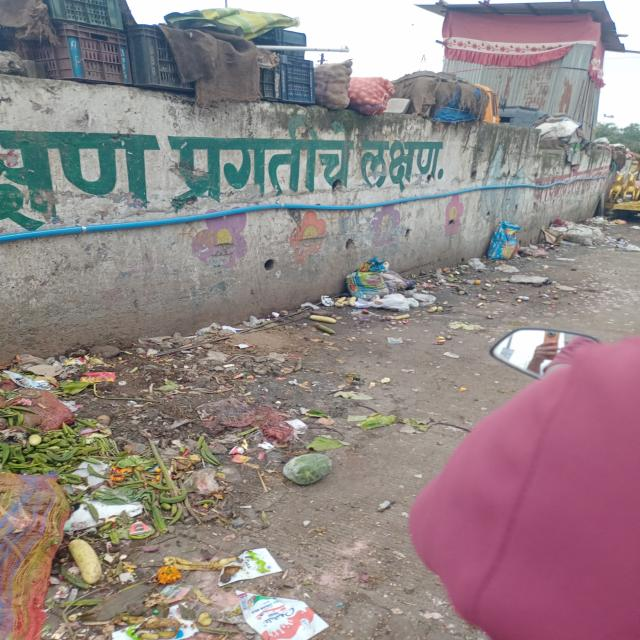garbage: (0, 344, 302, 630), (315, 261, 482, 324), (525, 216, 631, 257)
